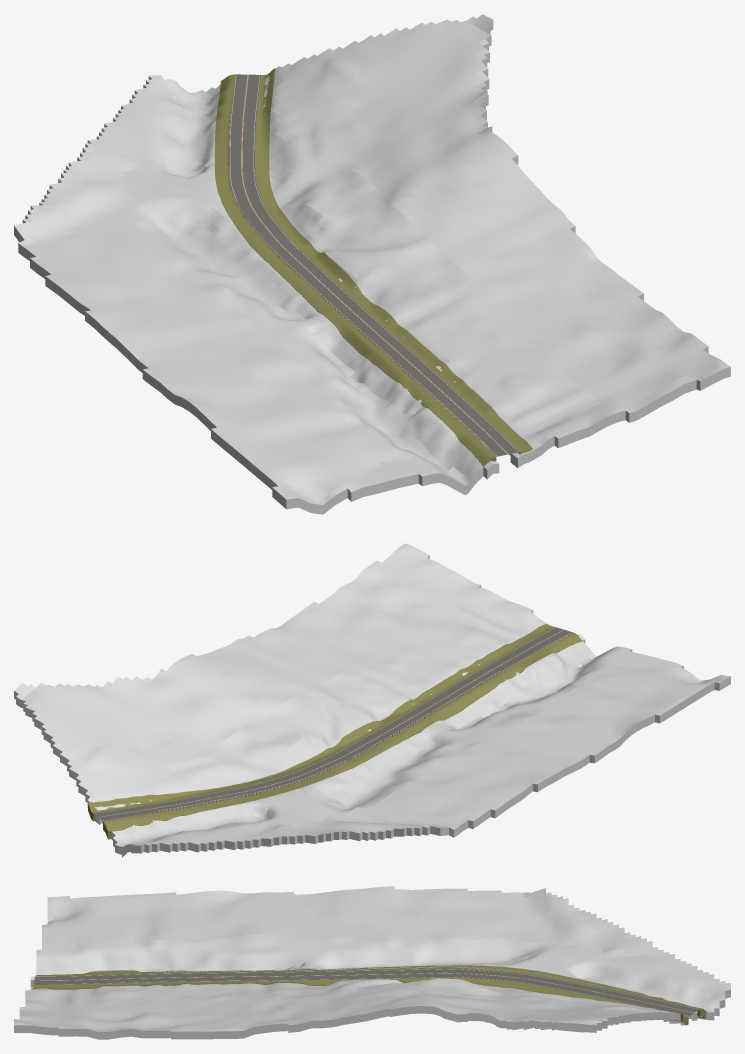
File: conz_139.glb
The picture shows the model from 3 angles, top to bottom: view 1: azimuth 30°, elevation 25°; view 2: azimuth 150°, elevation 25°; view 3: azimuth 270°, elevation 25°; orthographic projection. The views are drawn at different scales.
Parts seen in each view (by area): view 1: terrain139, road139, verge139L, verge139R; view 2: terrain139, road139, verge139L, verge139R, posts139_501770; view 3: terrain139, road139, verge139R, verge139L, beam139_501770, paint_white139, paint_yellow139.
Boxes of the visible parts, x1,y1,x2,y2 form: terrain139: [14, 14, 730, 514]; road139: [229, 74, 519, 456]; verge139L: [214, 74, 496, 475]; verge139R: [255, 68, 532, 454]; terrain139: [14, 543, 730, 857]; road139: [93, 627, 572, 821]; verge139L: [103, 632, 582, 839]; verge139R: [88, 624, 555, 821]; posts139_501770: [157, 671, 501, 813]; terrain139: [14, 886, 730, 1039]; road139: [33, 968, 699, 1016]; verge139R: [32, 977, 688, 1025]; verge139L: [35, 965, 706, 1018]; beam139_501770: [164, 966, 650, 997]; paint_white139: [33, 969, 698, 1015]; paint_yellow139: [40, 972, 693, 1012].
Size of the model in its own units: 176 by 42.6 by 256.
